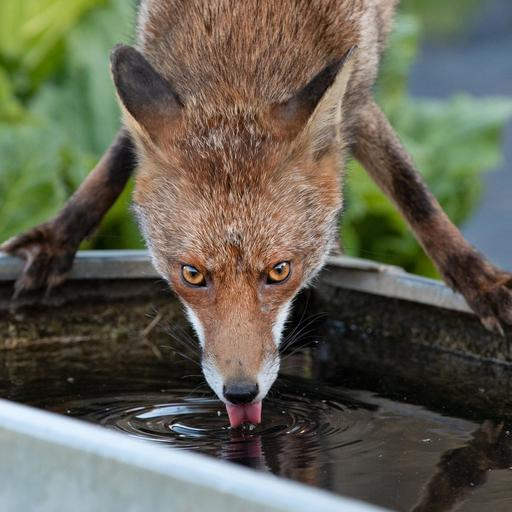Fox: (2, 0, 512, 450)
